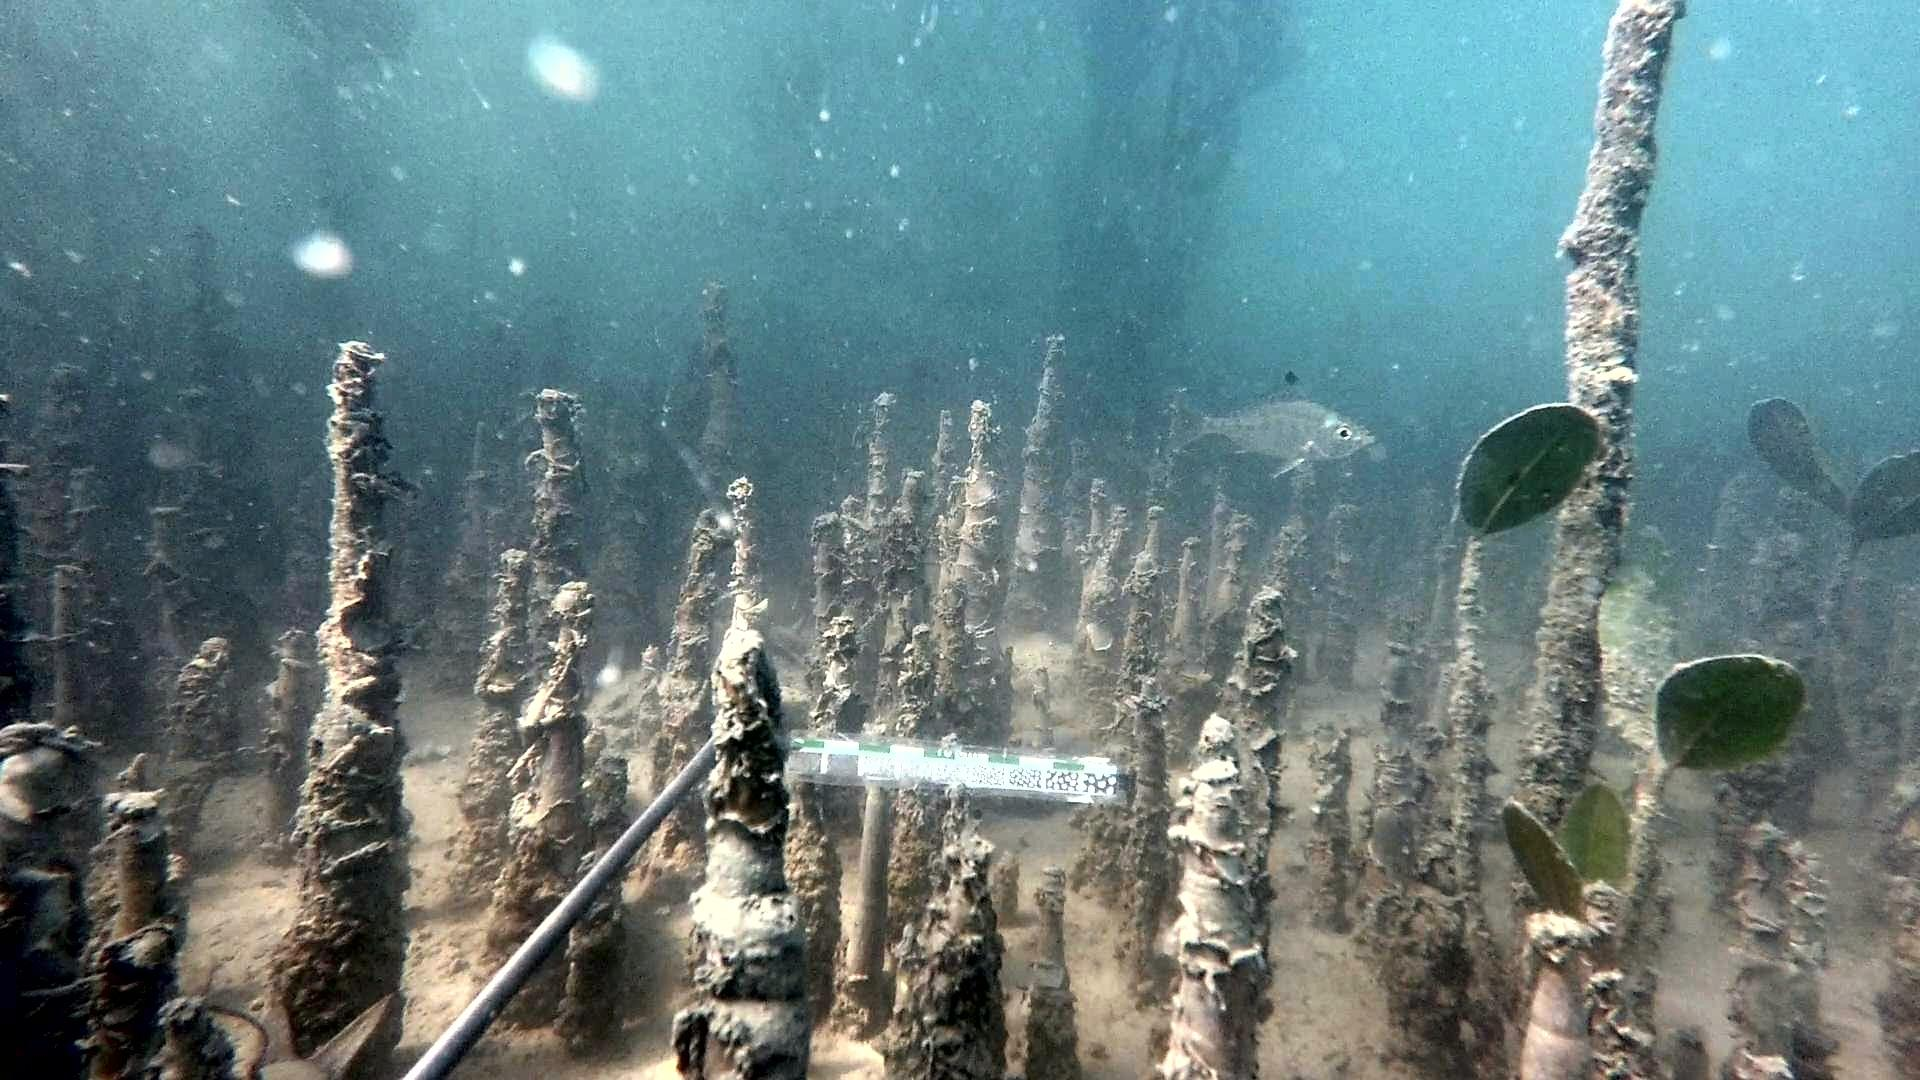gerres: (1171, 368, 1378, 480)
